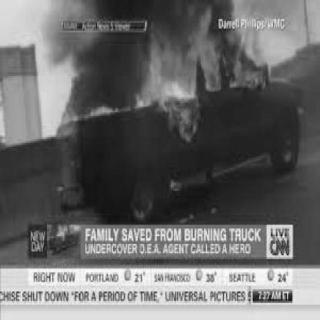Fire: (128, 1, 270, 139)
Smoke: (27, 0, 125, 97)
